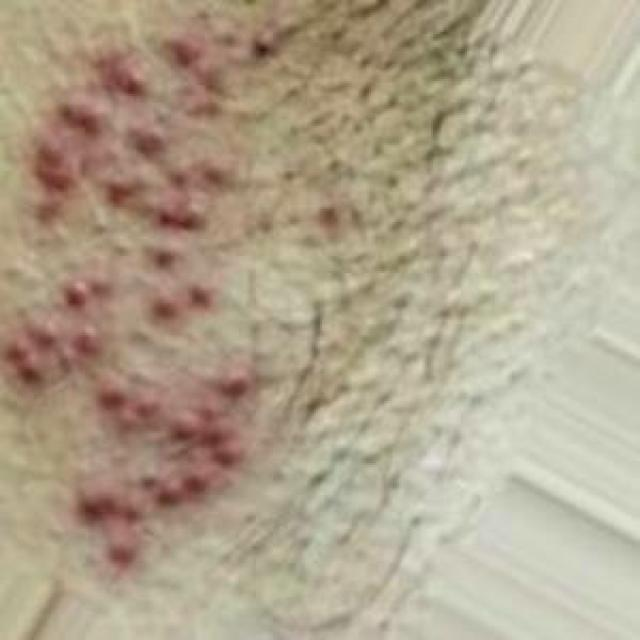Shingles: (7, 18, 269, 574)
